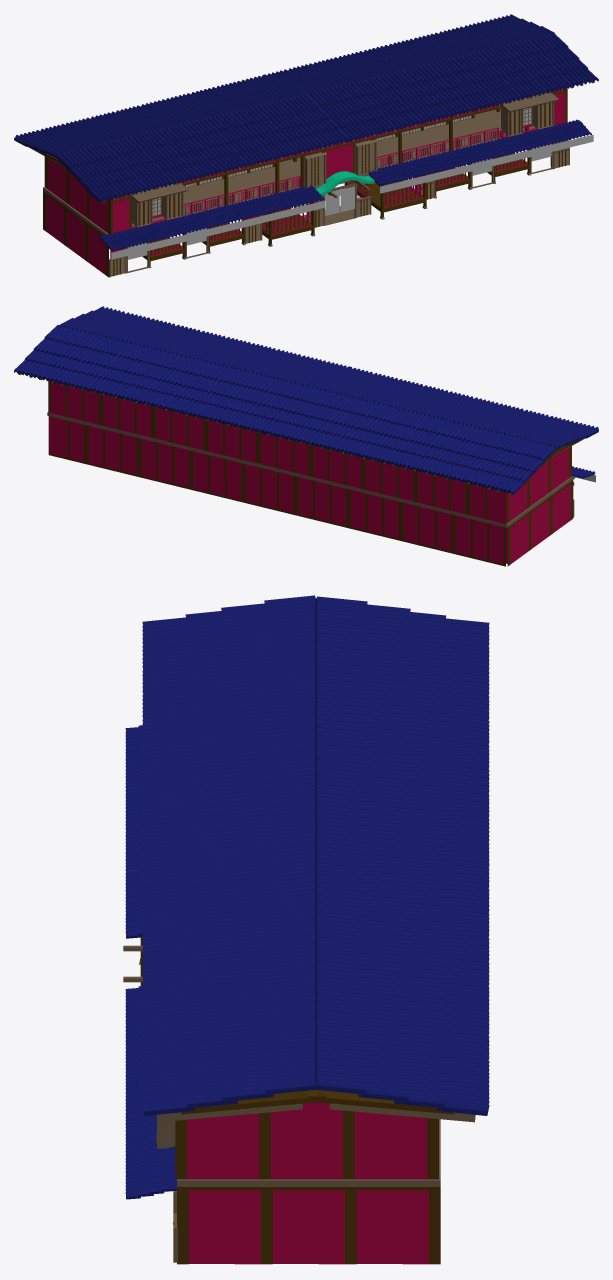
The model's file is yuukaku2.fbx.
3 views of the same model, one above another, from view 1: azimuth 30°, elevation 25°; view 2: azimuth 150°, elevation 25°; view 3: azimuth 270°, elevation 25° (orthographic). The views are drawn at different scales.
Visible parts, largest first — view 1: roof, roof3, second_ground, pCube146, pCube147, wall_front, reft_sidewall1, reft_sidewall, light_window1, left_window, pPlane17, pPlane6 (+14 smaller); view 2: roof3, light_sidewall1_polySurface413, roof, light_sidewall1_polySurface415, reft_sidewall1, second_ground, reft_sidewall; view 3: roof, roof3, reft_sidewall2_polySurface415, light_sidewall, pCube147, pCube146, second_ground, polySurface434, polySurface403, polySurface435, polySurface281.
Part boxes in pixels (x1,y1,x2,y2): roof: [57, 33, 598, 202]; roof3: [14, 14, 555, 158]; second_ground: [43, 108, 535, 235]; pCube146: [100, 185, 324, 251]; pCube147: [368, 119, 591, 186]; wall_front: [111, 87, 567, 233]; reft_sidewall1: [43, 191, 108, 277]; reft_sidewall: [45, 156, 110, 234]; light_window1: [501, 92, 558, 136]; left_window: [130, 183, 187, 227]; pPlane17: [380, 134, 593, 193]; pPlane6: [111, 200, 324, 259]; roof3: [14, 324, 555, 494]; light_sidewall1_polySurface413: [48, 416, 505, 566]; roof: [59, 306, 598, 449]; light_sidewall1_polySurface415: [48, 380, 505, 524]; reft_sidewall1: [507, 480, 573, 566]; second_ground: [47, 412, 574, 527]; reft_sidewall: [506, 446, 571, 523]; roof: [142, 595, 315, 1115]; roof3: [315, 596, 489, 1115]; reft_sidewall2_polySurface415: [177, 1187, 440, 1264]; light_sidewall: [175, 1102, 438, 1179]; pCube147: [125, 986, 176, 1199]; pCube146: [125, 725, 143, 938]; second_ground: [177, 1119, 440, 1186]; polySurface434: [309, 1090, 453, 1114]; polySurface403: [181, 1090, 325, 1114]; polySurface435: [329, 1103, 475, 1122]; polySurface281: [157, 1103, 302, 1122].
Size of the model in its own units: 349 by 69.69 by 111.
